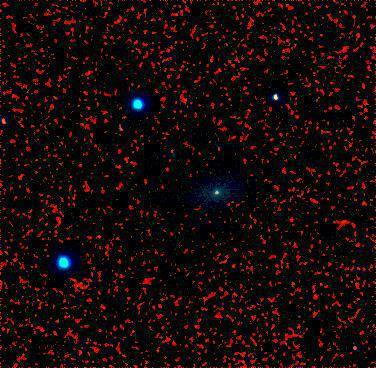star: (233, 99, 263, 129)
